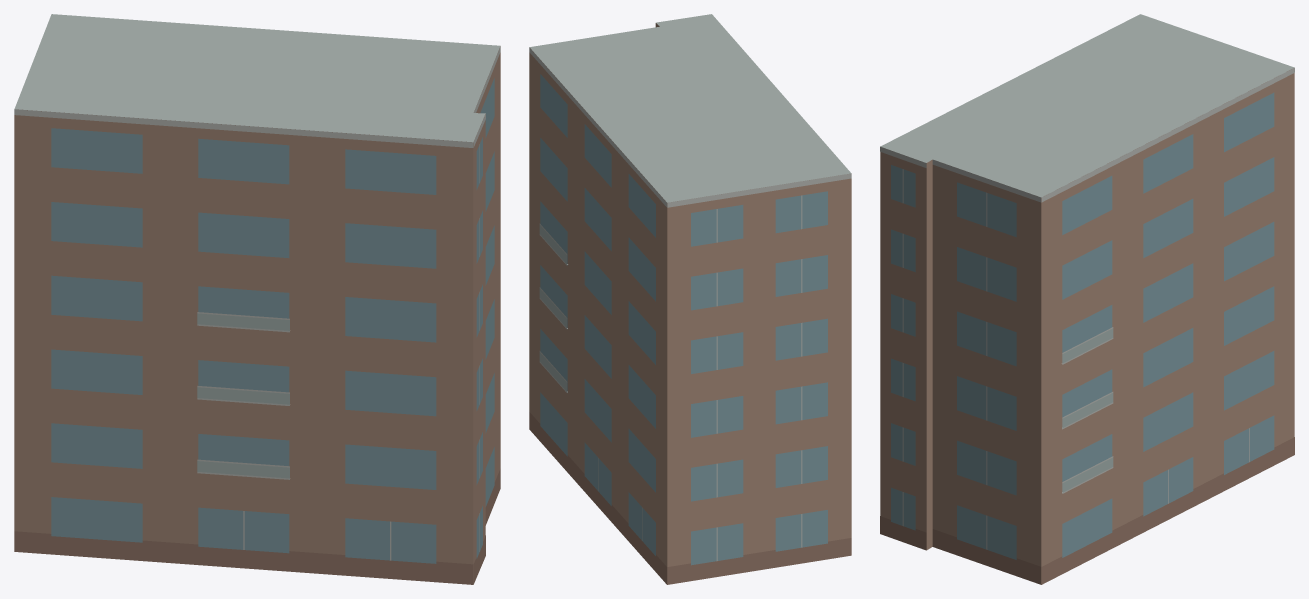
The model's file is survey-upis-32927605.glb.
The picture shows the model from 3 angles, left to right: view 1: azimuth 30°, elevation 25°; view 2: azimuth 150°, elevation 25°; view 3: azimuth 270°, elevation 25°; orthographic projection. The views are drawn at different scales.
Visible parts, largest first — view 1: survey-upis-32927605.tmp; view 2: survey-upis-32927605.tmp; view 3: survey-upis-32927605.tmp.
Boxes of the visible parts, x1,y1,x2,y2 form: survey-upis-32927605.tmp: (14, 14, 500, 584); survey-upis-32927605.tmp: (529, 14, 851, 584); survey-upis-32927605.tmp: (880, 14, 1294, 584).
Bounding box in the file's own units: 18.6 × 18.3 × 17.76.
